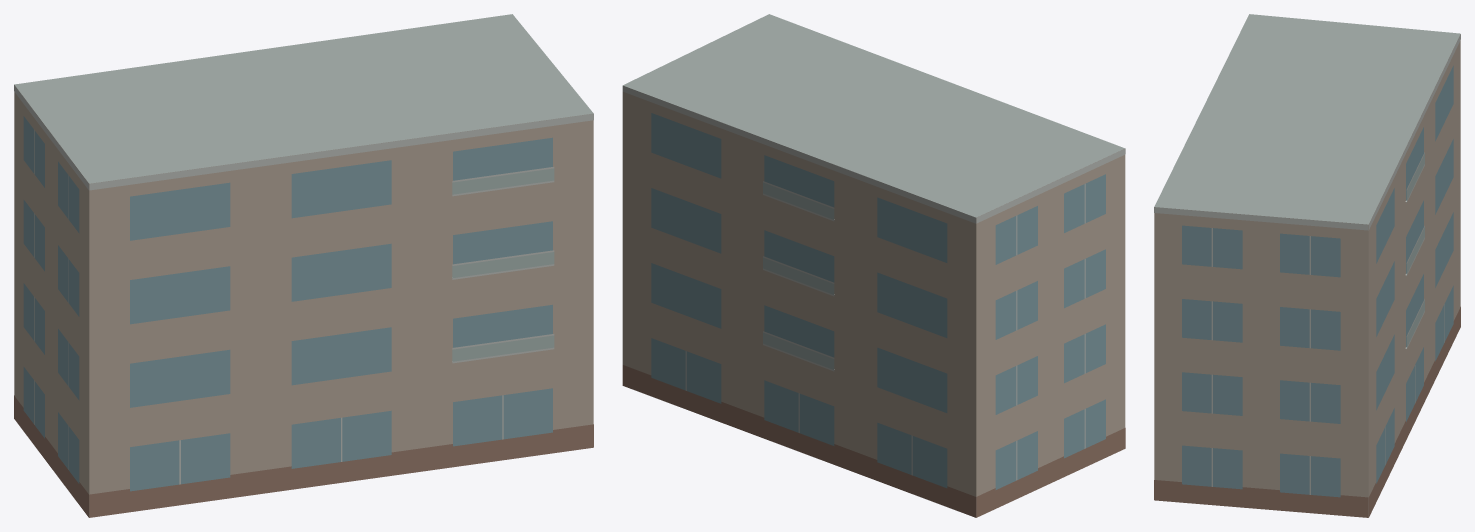
Rendered from survey-upis-32918998.glb.
The picture shows the model from 3 angles, left to right: view 1: azimuth 30°, elevation 25°; view 2: azimuth 150°, elevation 25°; view 3: azimuth 270°, elevation 25°; orthographic projection. The views are drawn at different scales.
Visible parts, largest first — view 1: survey-upis-32918998.tmp; view 2: survey-upis-32918998.tmp; view 3: survey-upis-32918998.tmp.
Boxes of the visible parts, x1=… form: survey-upis-32918998.tmp: x1=14, y1=14, x2=593, y2=517; survey-upis-32918998.tmp: x1=622, y1=14, x2=1125, y2=517; survey-upis-32918998.tmp: x1=1154, y1=14, x2=1460, y2=517.
Bounding box in the file's own units: 18.48 × 12 × 11.38.
